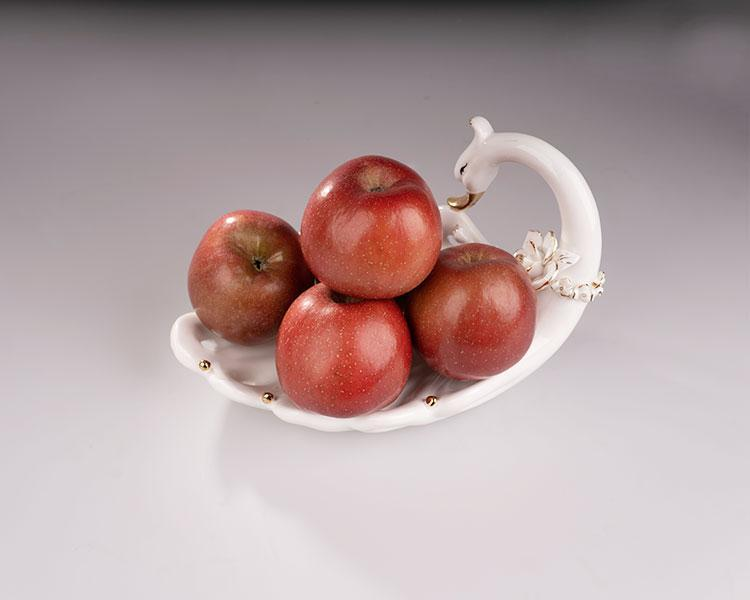apple: (300, 154, 442, 301), (276, 283, 410, 415), (413, 243, 536, 376), (185, 207, 305, 343)
